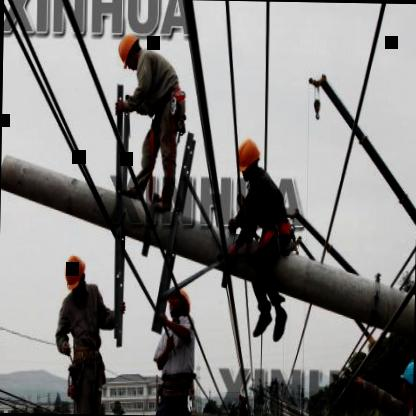helmet: (234, 134, 264, 182), (116, 28, 146, 70), (62, 252, 88, 298), (165, 285, 194, 322), (398, 351, 414, 414)
